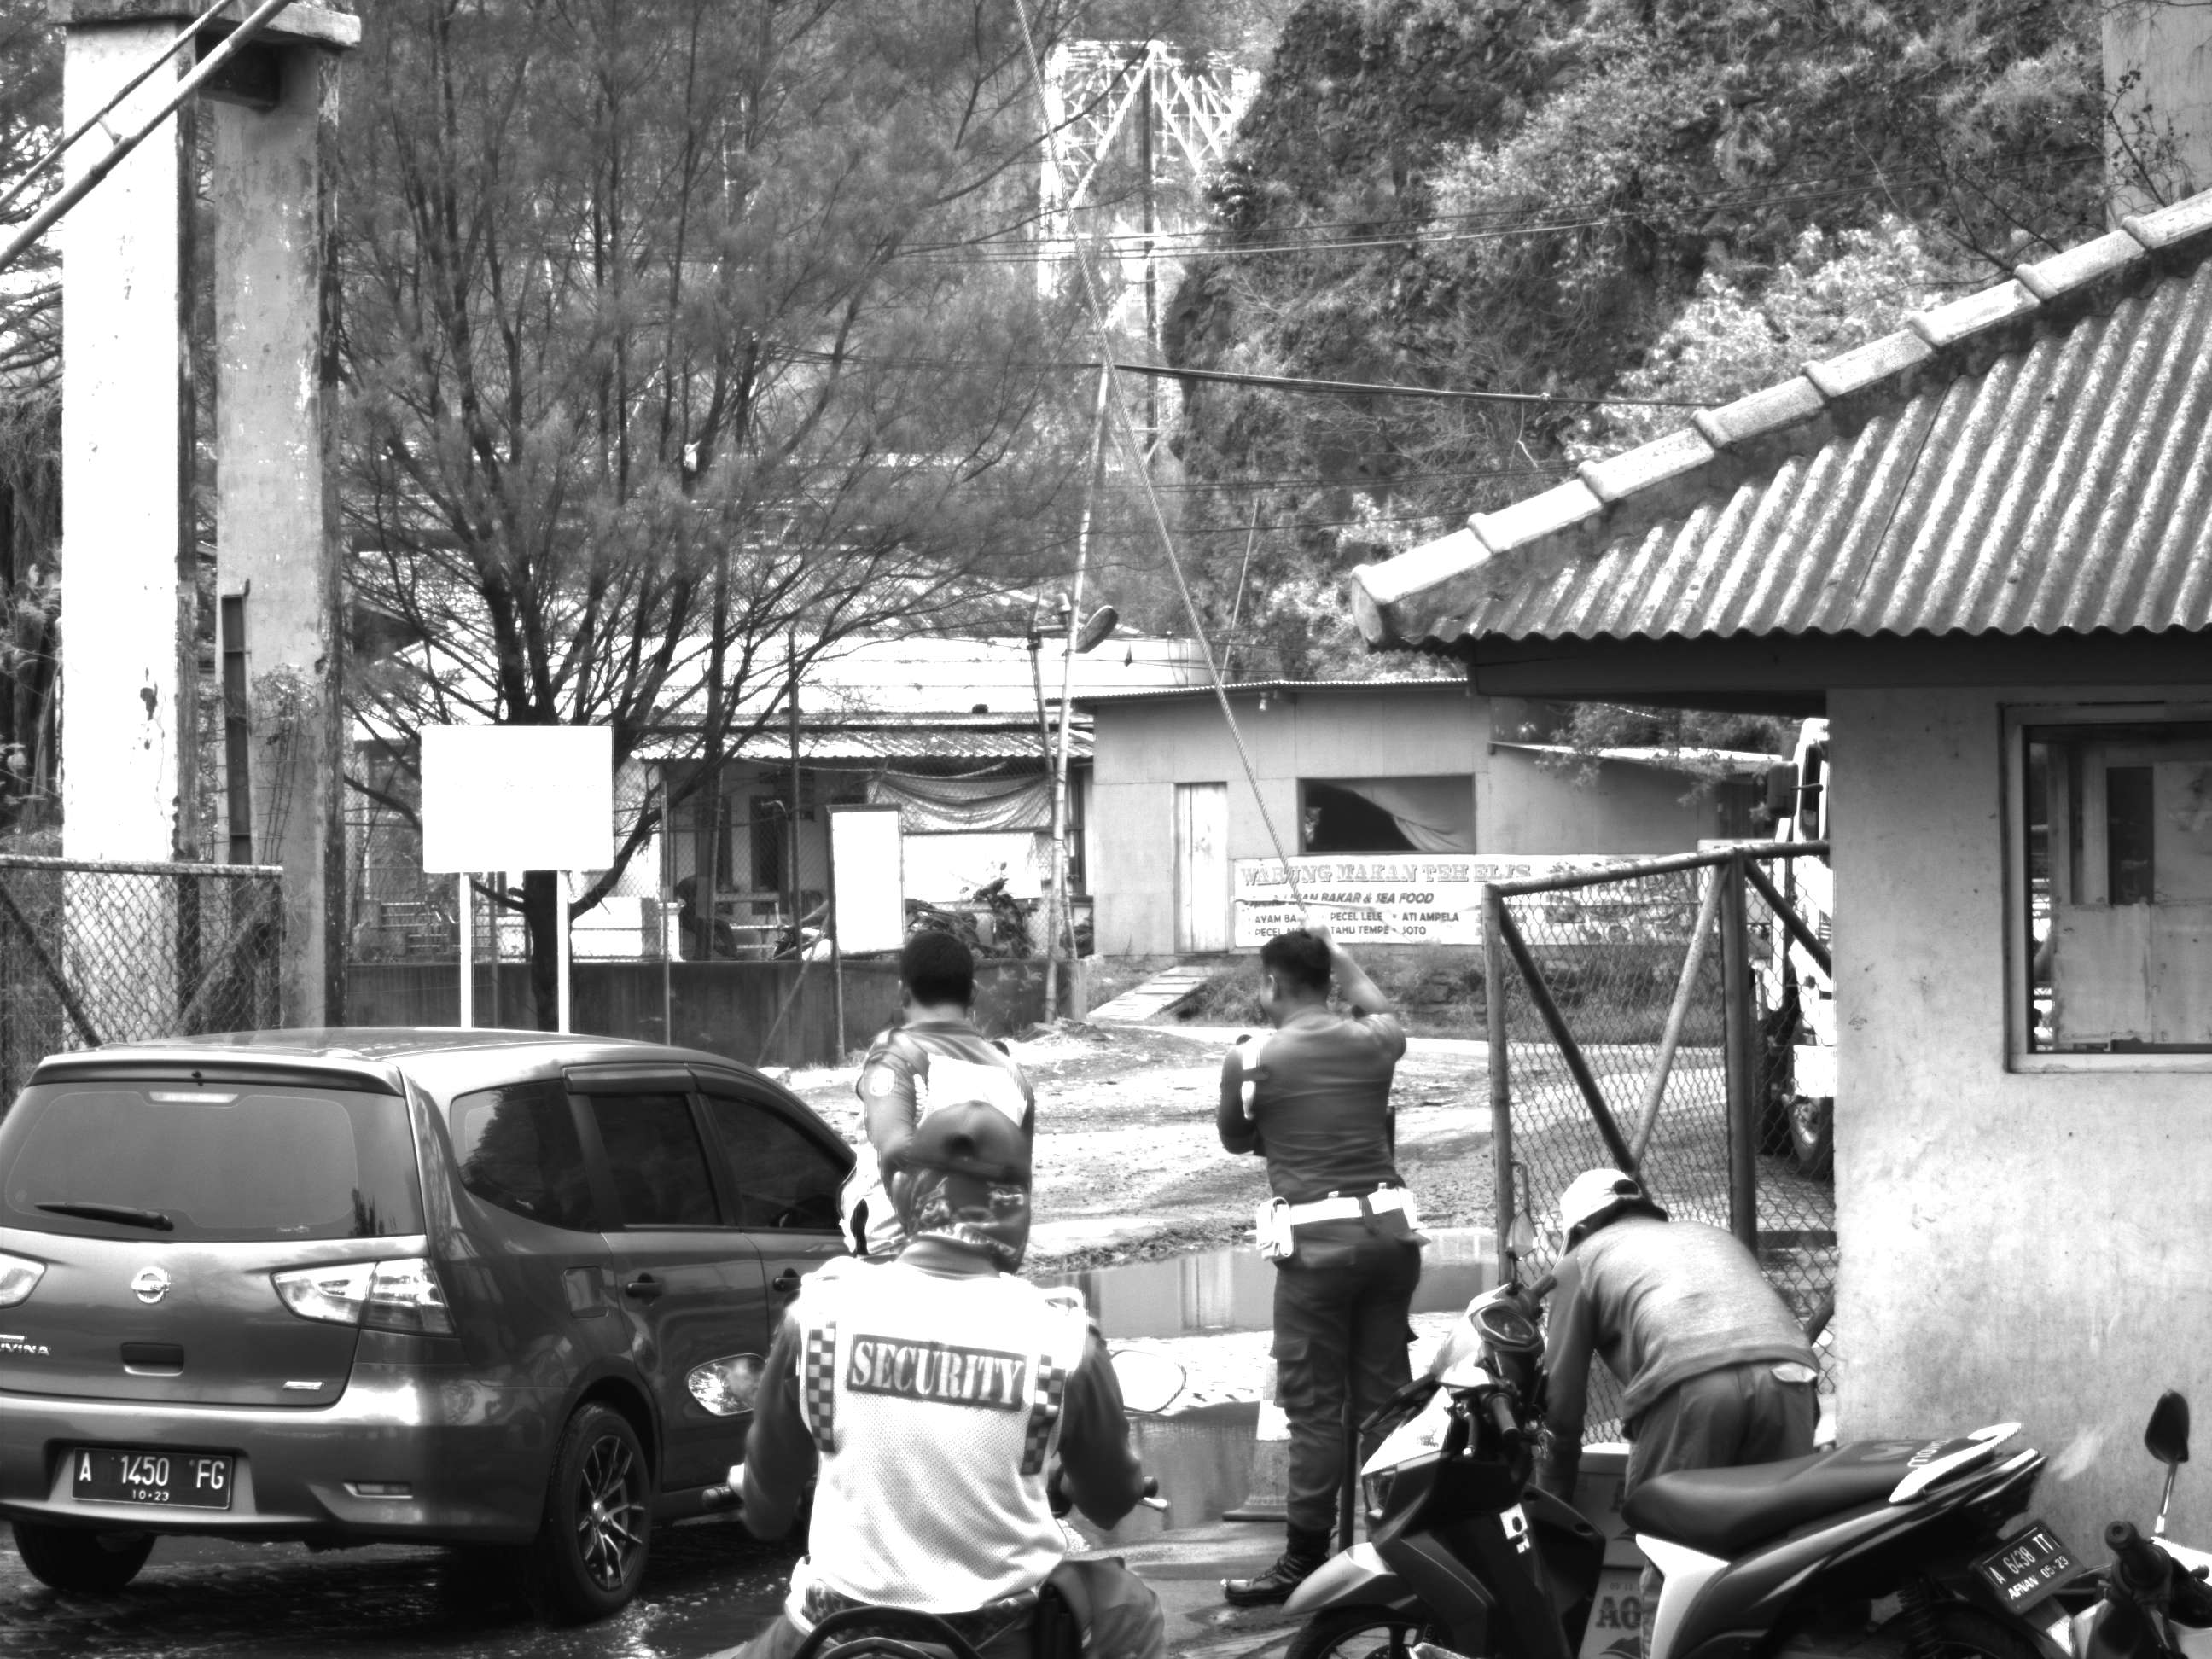day_small_rear: (4, 1039, 667, 1618)
plate: (68, 1439, 244, 1515)
